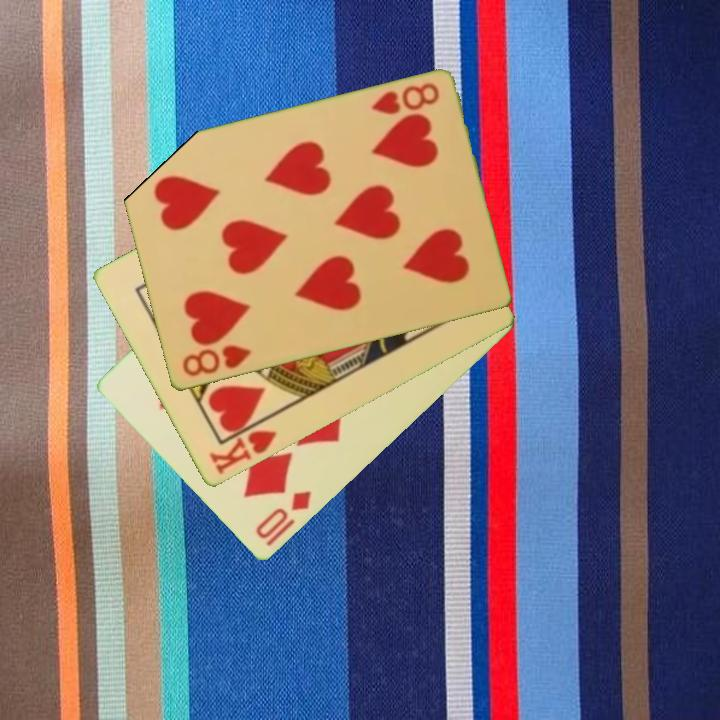10d: (251, 487, 314, 543)
8h: (178, 341, 254, 380), (367, 80, 442, 118)
Kh: (205, 413, 279, 478)
